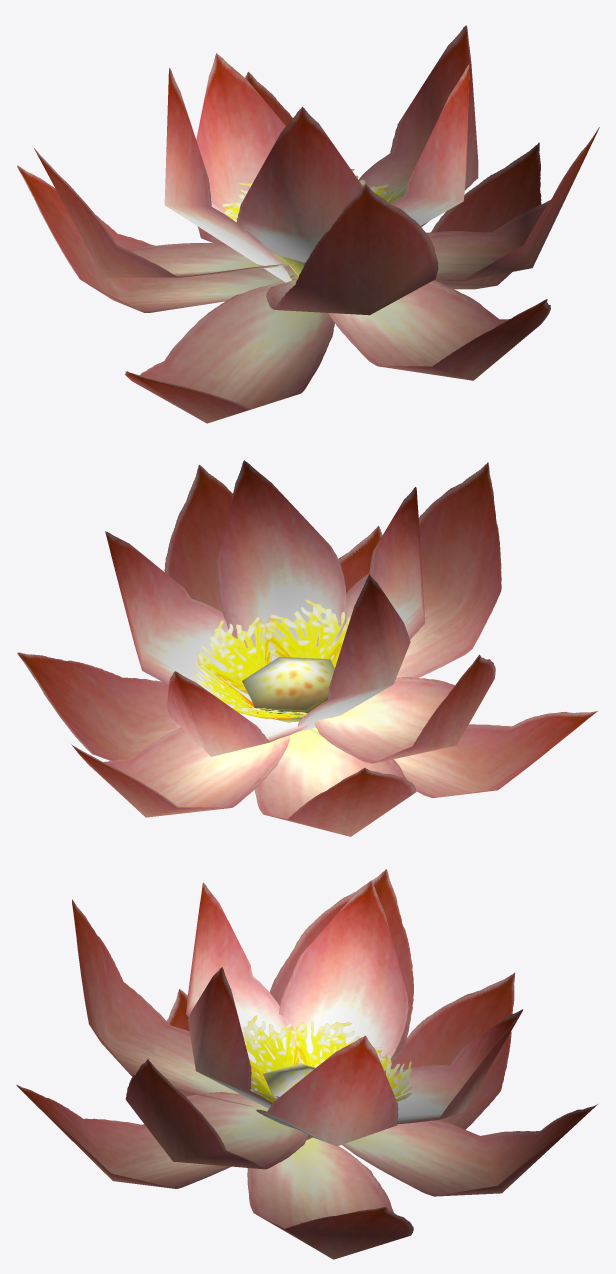
File: TY_faguanghehua_01.FBX
3 renders of one model, top to bottom at view 1: azimuth 30°, elevation 25°; view 2: azimuth 150°, elevation 25°; view 3: azimuth 270°, elevation 25°, orthographic. The views are drawn at different scales.
Parts seen in each view (by area): view 1: TY_faguanghehua_01; view 2: TY_faguanghehua_01; view 3: TY_faguanghehua_01.
Part boxes in pixels (x1=…): TY_faguanghehua_01: x1=17, y1=25, x2=599, y2=423; TY_faguanghehua_01: x1=17, y1=460, x2=597, y2=836; TY_faguanghehua_01: x1=16, y1=869, x2=597, y2=1259.
Size of the model in its own units: 96.57 by 54.76 by 102.
1 material, 1 textured.
